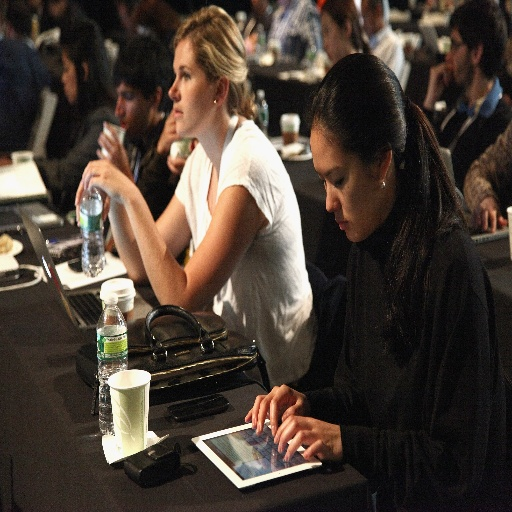hand: (243, 383, 312, 439), (80, 158, 136, 203), (94, 120, 132, 174), (72, 180, 111, 228), (473, 194, 508, 235), (166, 137, 199, 177), (156, 108, 182, 153), (425, 61, 454, 101), (117, 3, 139, 30)
